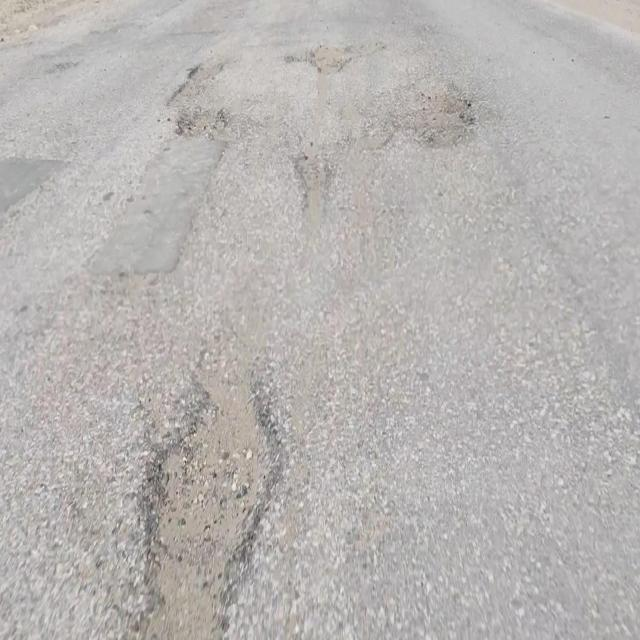Potholes: (128, 353, 286, 640), (407, 78, 473, 146), (292, 139, 329, 222), (172, 109, 226, 142), (307, 41, 353, 74), (187, 58, 216, 84)
